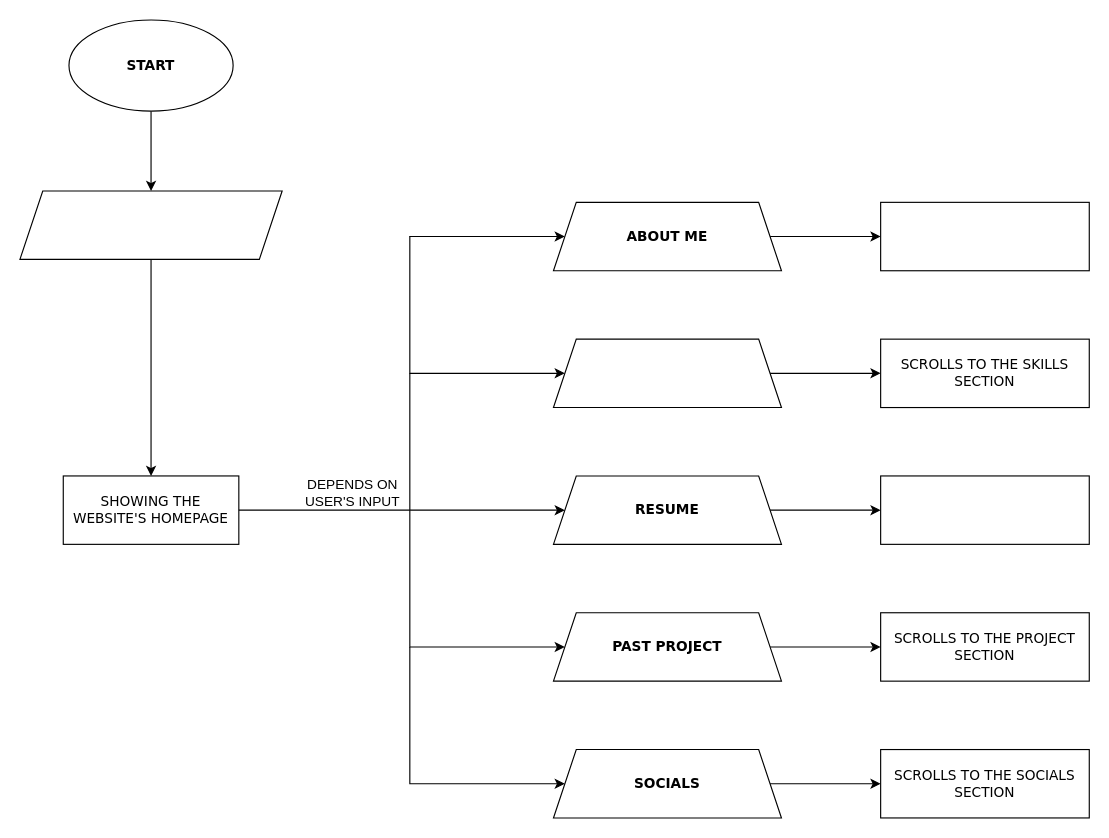
This 1109x838 diagram has some shape labels left out. The shapes that lost their labels are listed below. From the top down, each one's centre as x and y in pixels, then its label:
(150,224): INPUTTING WEBSITE'S URL
(984,236): SCROLLS TO THE ABOUT ME SECTION
(666,373): SKILLS
(984,509): SCROLLS TO THE RESUME SECTION
